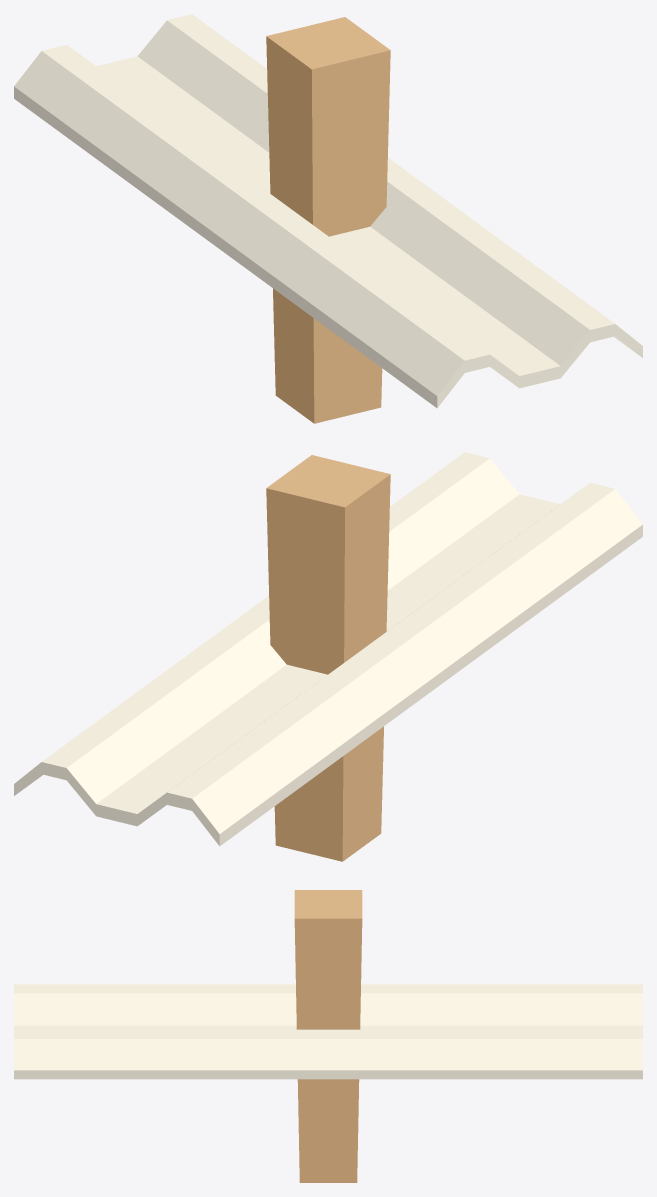
Rendered from guardrails.fbx.
The picture shows the model from 3 angles, top to bottom: view 1: azimuth 30°, elevation 25°; view 2: azimuth 150°, elevation 25°; view 3: azimuth 270°, elevation 25°; orthographic projection. The views are drawn at different scales.
Parts seen in each view (by area): view 1: Cube.001, Cube.002; view 2: Cube.001, Cube.002; view 3: Cube.001, Cube.002.
Part boxes in pixels (x1=…): Cube.001: x1=14, y1=14, x2=642, y2=408; Cube.002: x1=266, y1=17, x2=390, y2=423; Cube.001: x1=14, y1=452, x2=642, y2=846; Cube.002: x1=266, y1=455, x2=390, y2=861; Cube.001: x1=14, y1=984, x2=642, y2=1079; Cube.002: x1=294, y1=890, x2=362, y2=1182.
Bounding box in the file's own units: 52.91 × 88.07 × 189.
